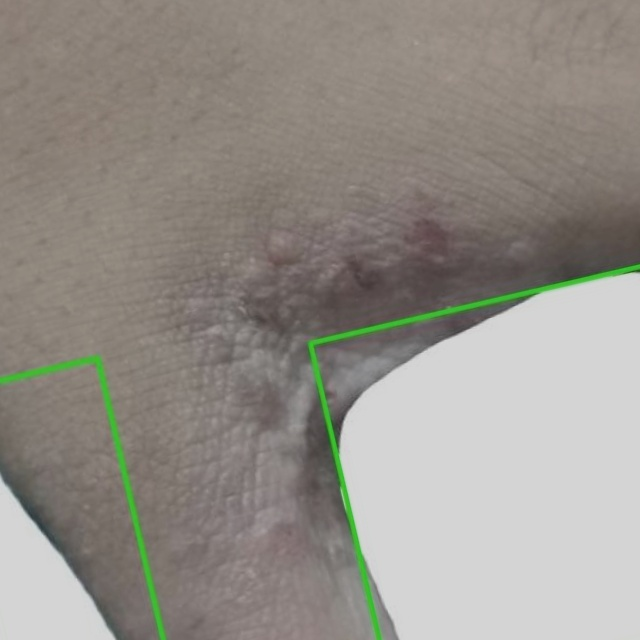Scabies: (309, 268, 639, 639)
